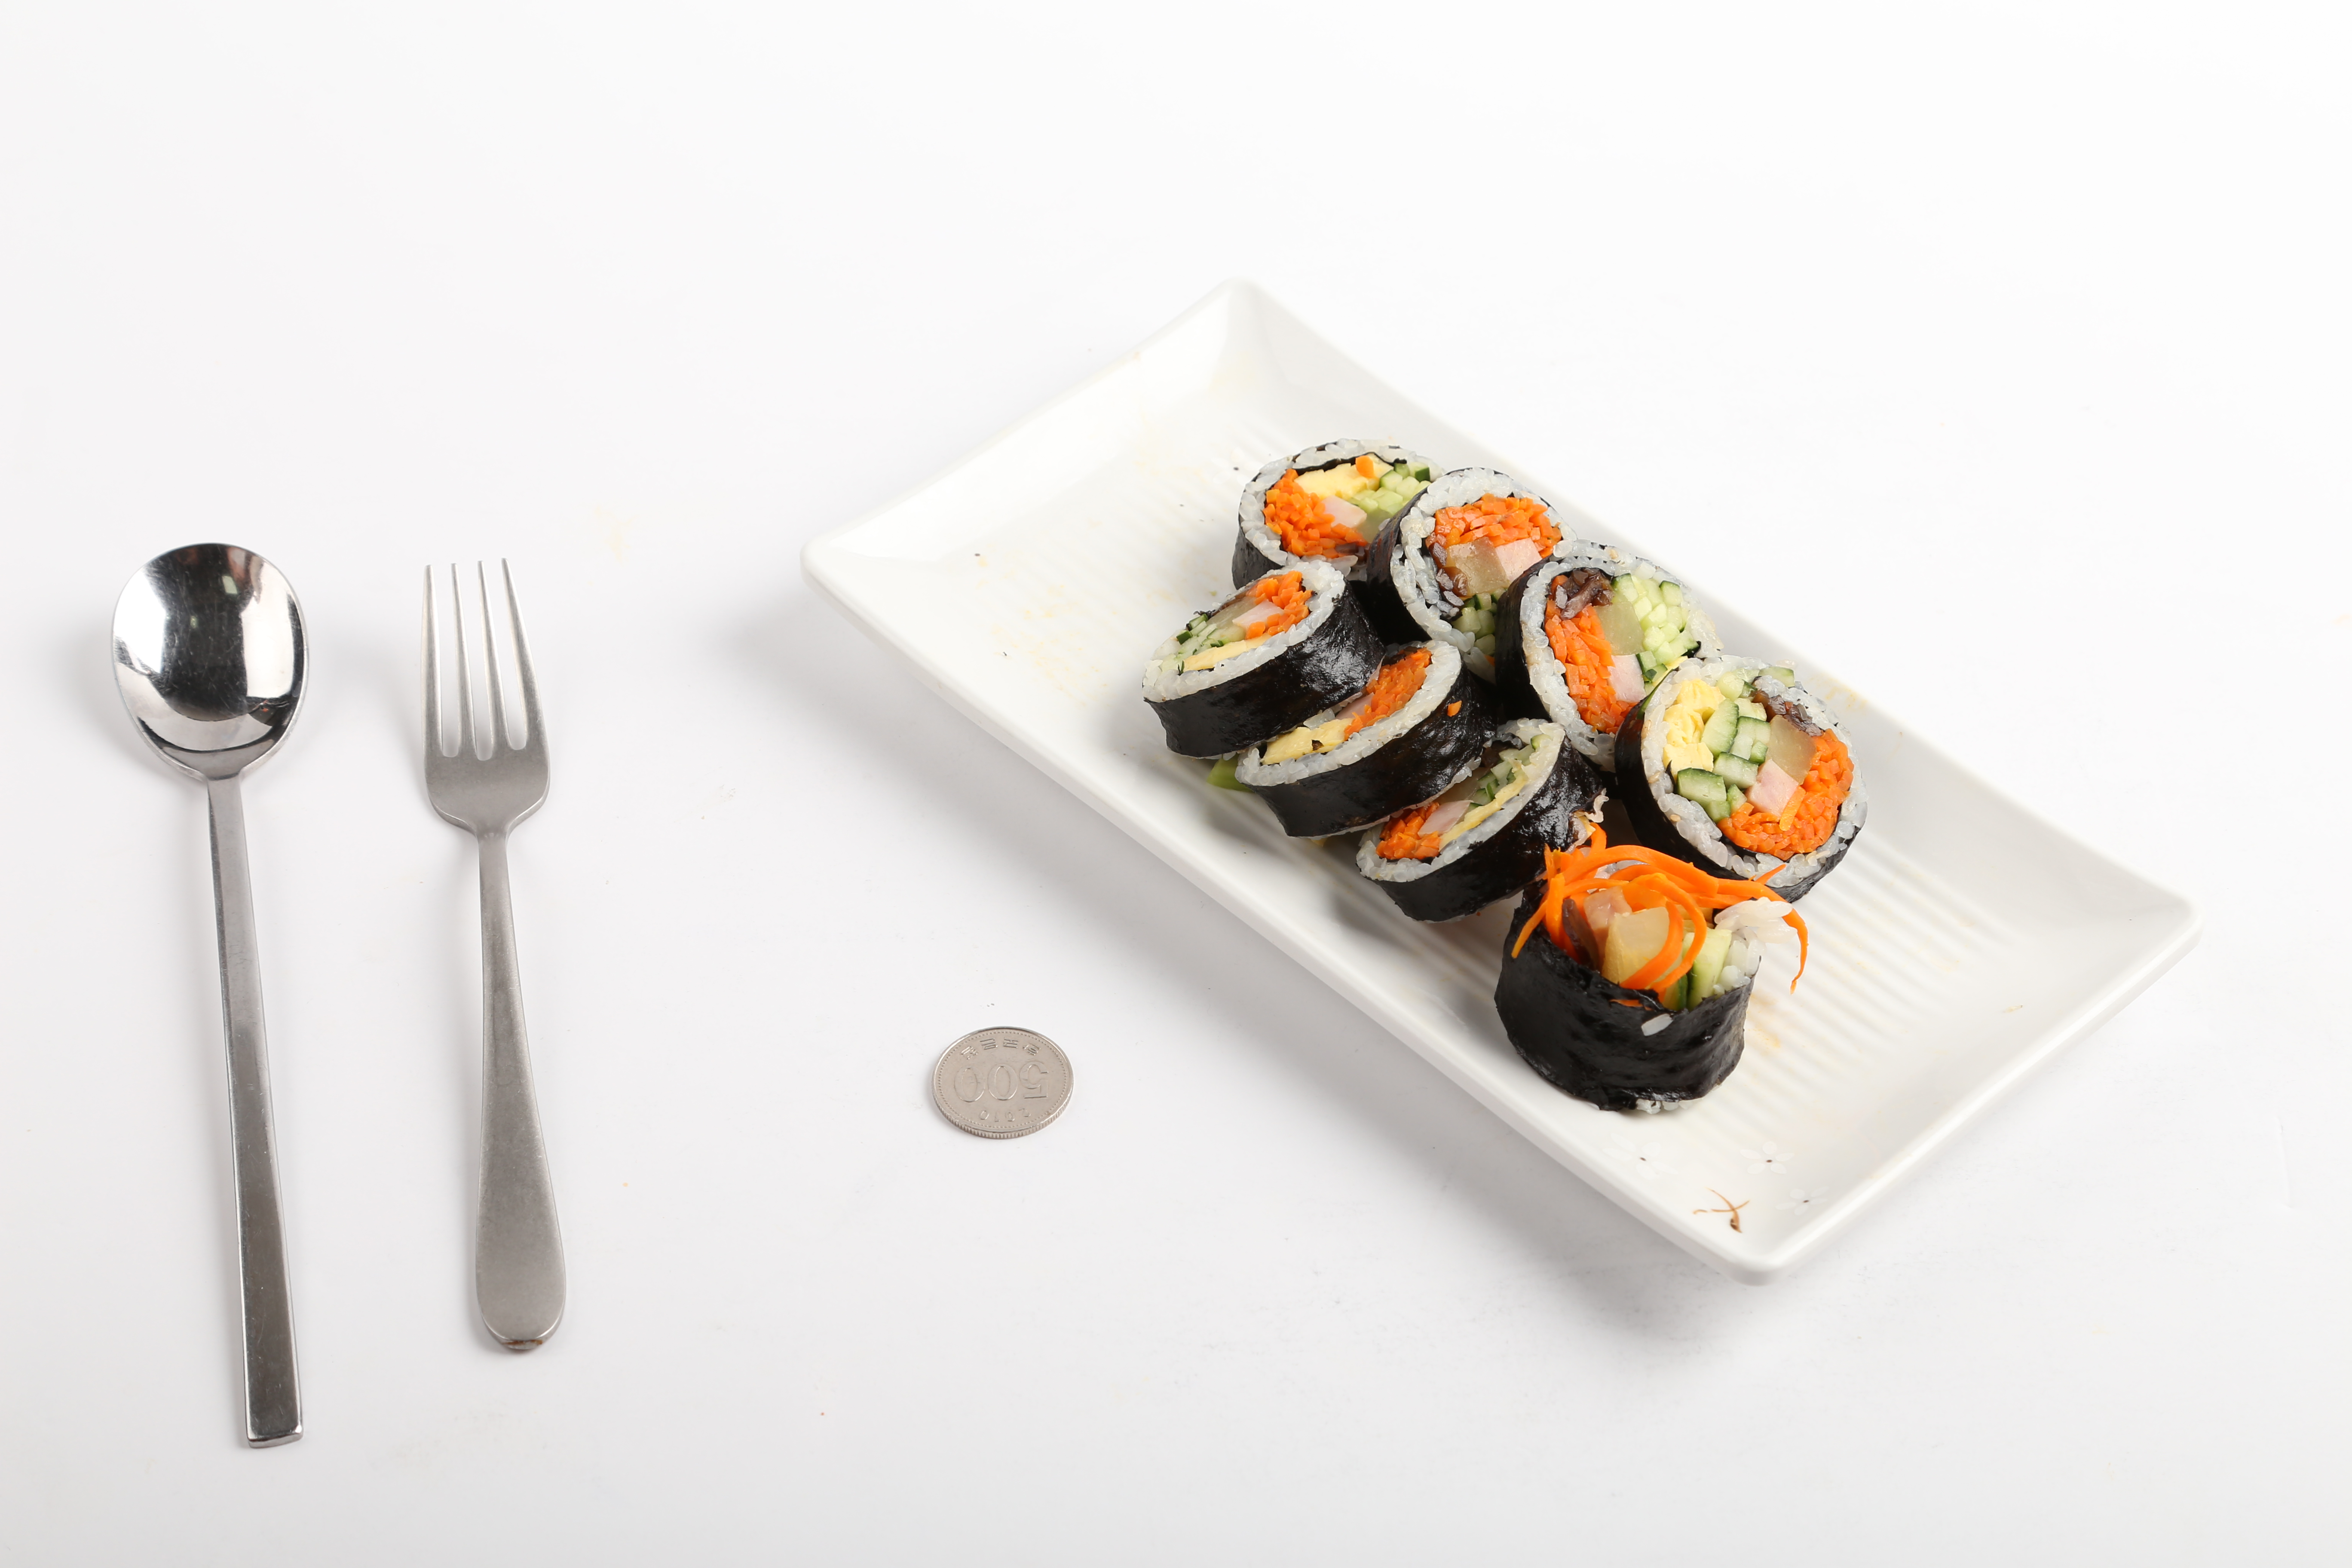dish: (787, 271, 2207, 1293)
ref_coin: (919, 1013, 1073, 1146)
ref_fork: (411, 549, 555, 901)
ref_spoon: (105, 535, 308, 852)
김밥: (1129, 434, 1867, 1129)
